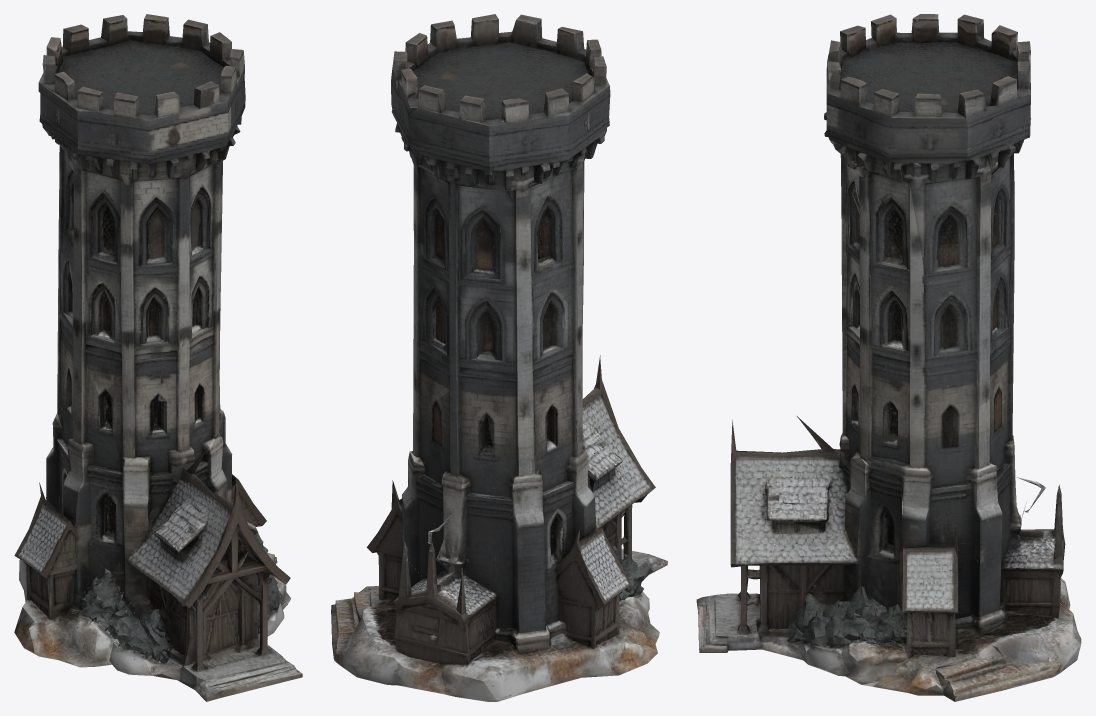
File: gt_winter.glb
3 views of the same model, side by side, from view 1: azimuth 30°, elevation 25°; view 2: azimuth 150°, elevation 25°; view 3: azimuth 270°, elevation 25° (orthographic). The views are drawn at different scales.
Visible parts, largest first — view 1: gt_winter; view 2: gt_winter; view 3: gt_winter.
Part boxes in pixels (box(x1,y1,x2,y2)): gt_winter: box(14, 14, 302, 701); gt_winter: box(331, 14, 667, 701); gt_winter: box(696, 14, 1081, 701).
Size of the model in its own units: 1.05 by 2 by 1.22.
Materials: 1 (1 with a texture image).
